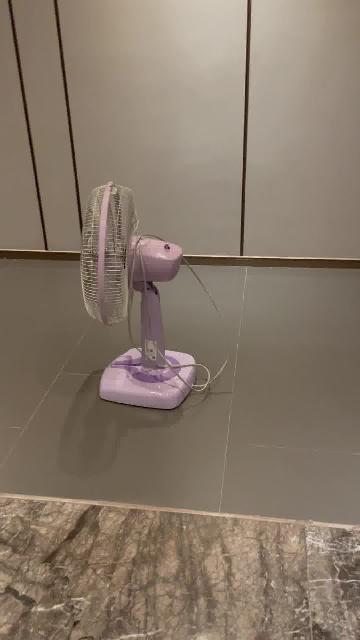Fan: (80, 182, 198, 411)
